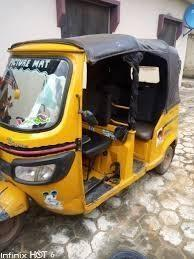keke: (2, 33, 188, 252)
